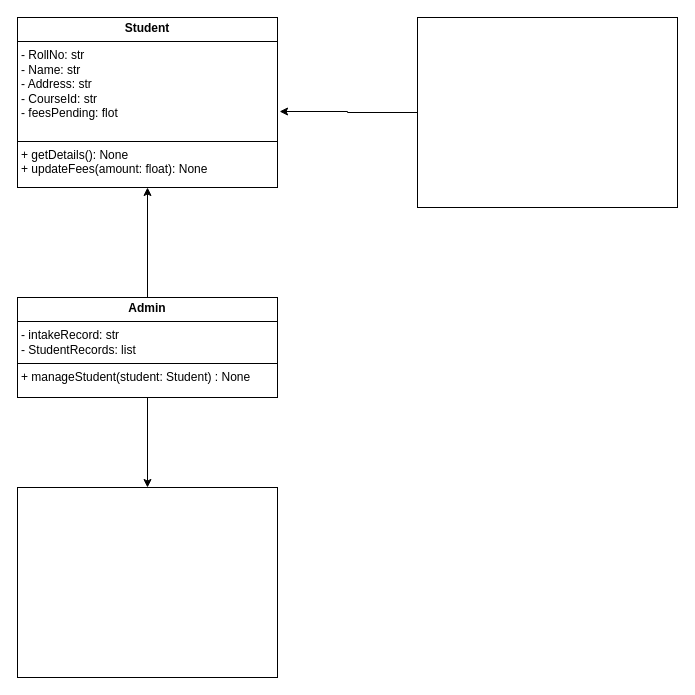
Some shapes in this 695 by 695 pixel diagram are drawn without their labels. Here are the shapes that lost their labels. From the top down, the centre of each, then its label:
At pixel 547 112: "Teacher - teacherId : str - teacherName : str + teachStudent(student) : None".
At pixel 147 582: "Course - course Id : str - course Name : str + getCourseInfo : str".
